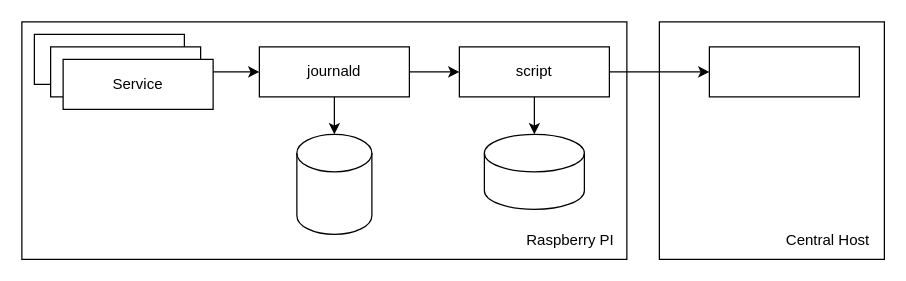
This 906x281 diagram has some shape labels left out. The box of each missing label's shape, as (x1, y1, x2, y2) in pixels:
Checkpoint: (483, 133, 584, 209)
Disk: (296, 133, 372, 234)
Loki: (708, 46, 859, 97)
